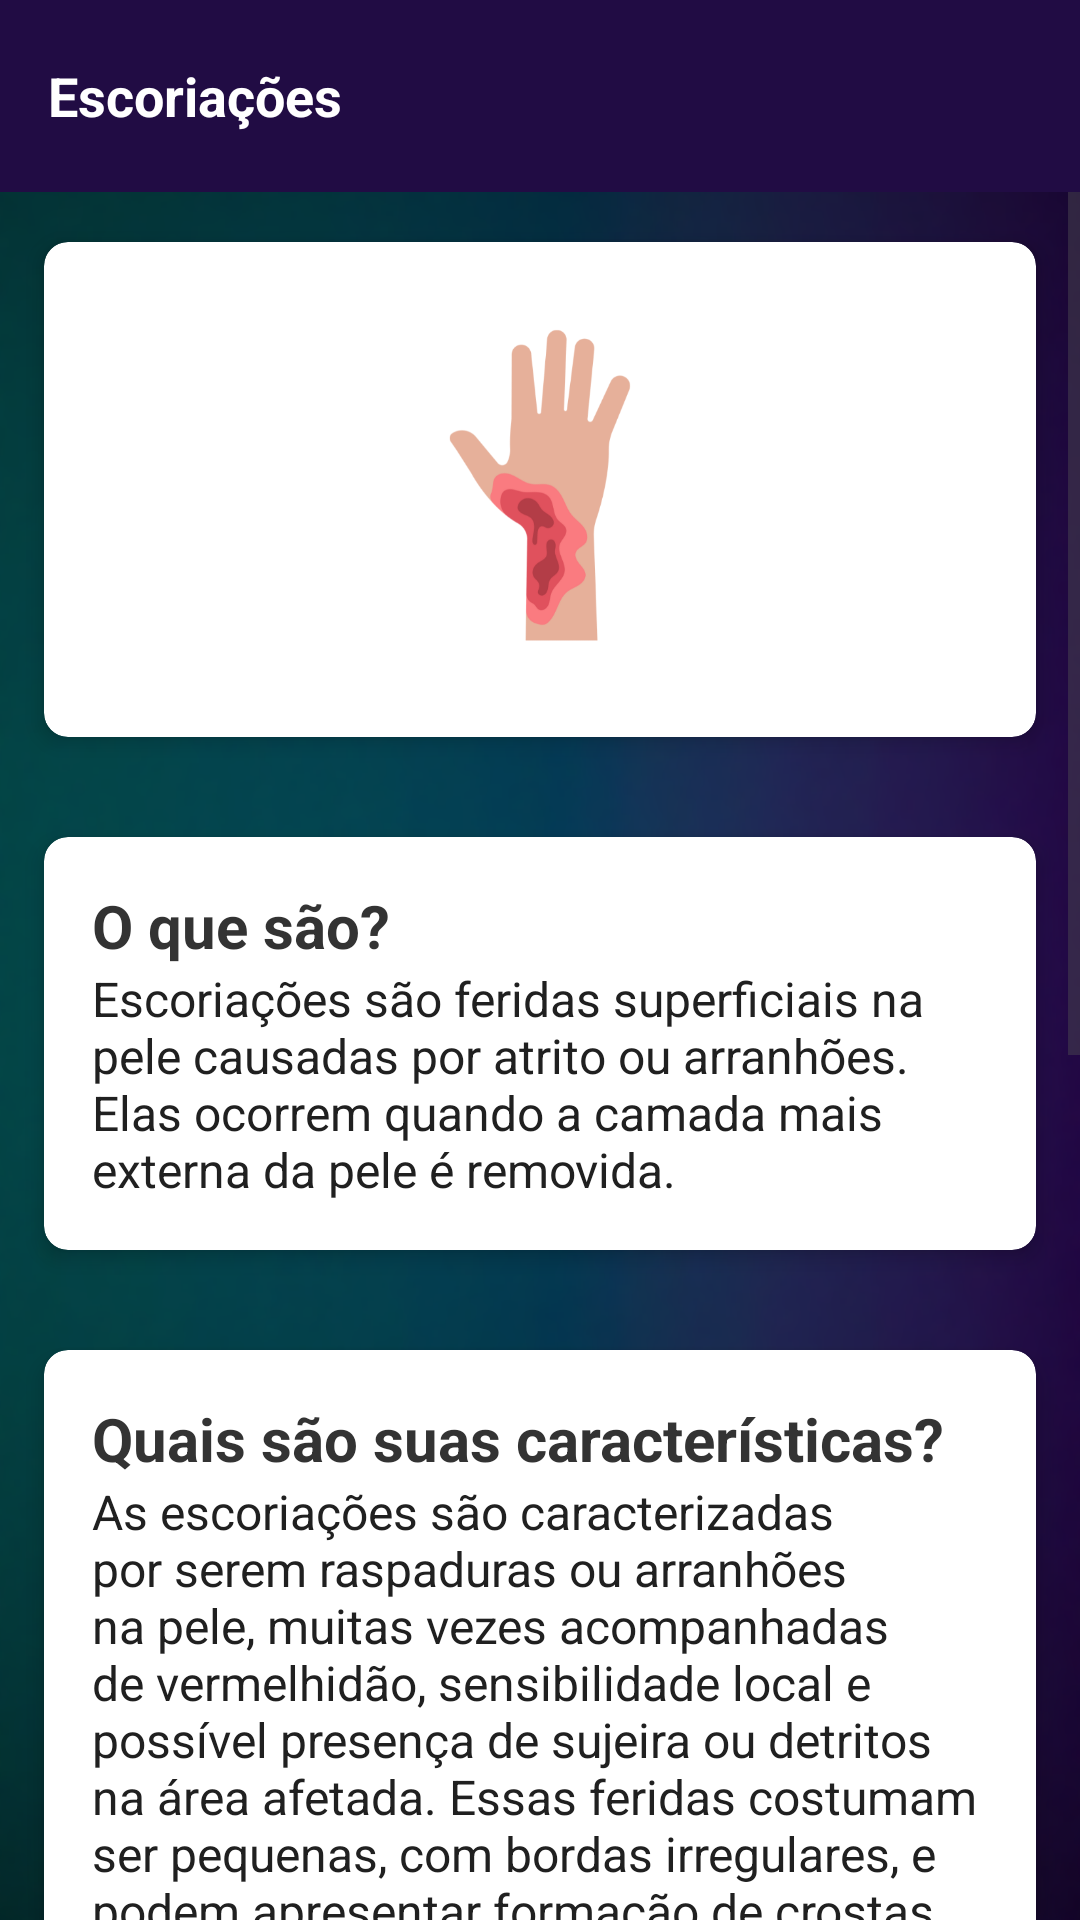

Icon click points for this 1080w x 1920h phone screenshot, format point (x, y):
feridaescoriacao: point (540, 485)
